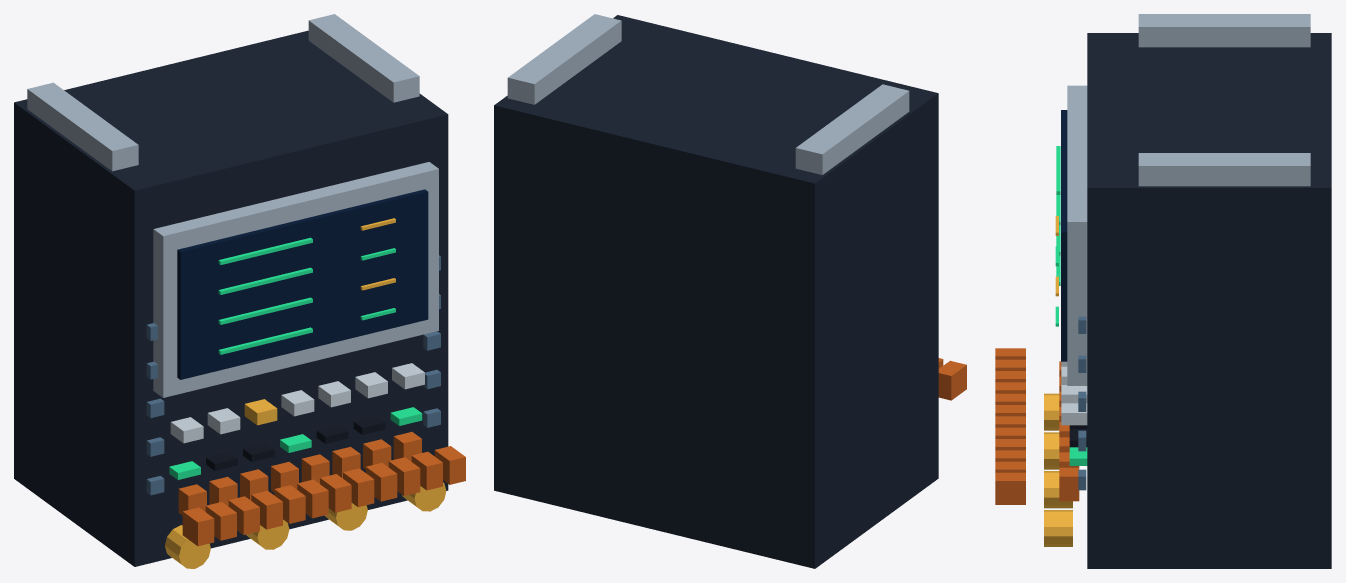
The model's file is 11_L85_StationDockingPowerInterface.fbx.
The picture shows the model from 3 angles, left to right: view 1: azimuth 30°, elevation 25°; view 2: azimuth 150°, elevation 25°; view 3: azimuth 270°, elevation 25°; orthographic projection. The views are drawn at different scales.
Parts seen in each view (by area): view 1: L85_StationDockingPowerInterface; view 2: L85_StationDockingPowerInterface; view 3: L85_StationDockingPowerInterface.
Boxes of the visible parts, x1=… form: L85_StationDockingPowerInterface: x1=14, y1=14, x2=465, y2=568; L85_StationDockingPowerInterface: x1=494, y1=14, x2=966, y2=568; L85_StationDockingPowerInterface: x1=995, y1=14, x2=1331, y2=568.
Bounding box in the file's own units: 95.88 × 116 × 87.96.
